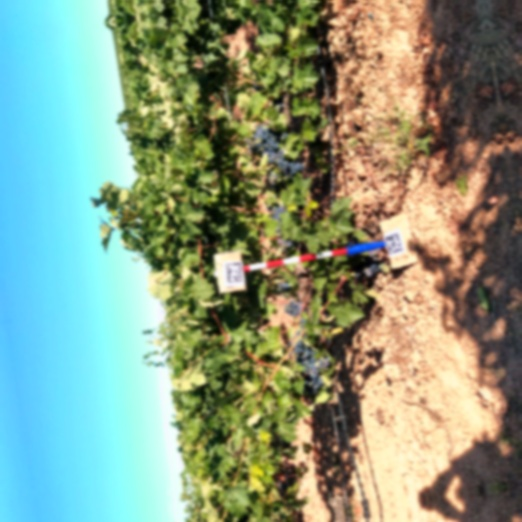QR: (384, 232, 404, 254), (225, 261, 243, 282)
